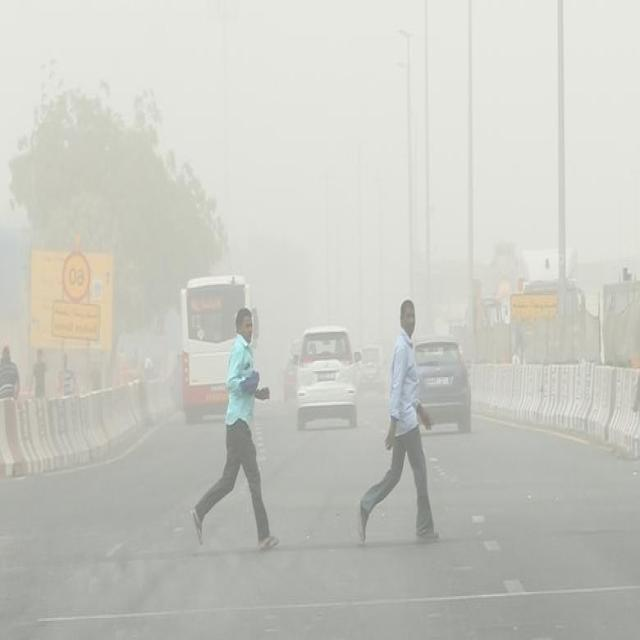Bus: (178, 272, 260, 425)
Car: (291, 325, 362, 430), (409, 340, 473, 435), (354, 342, 384, 394)
